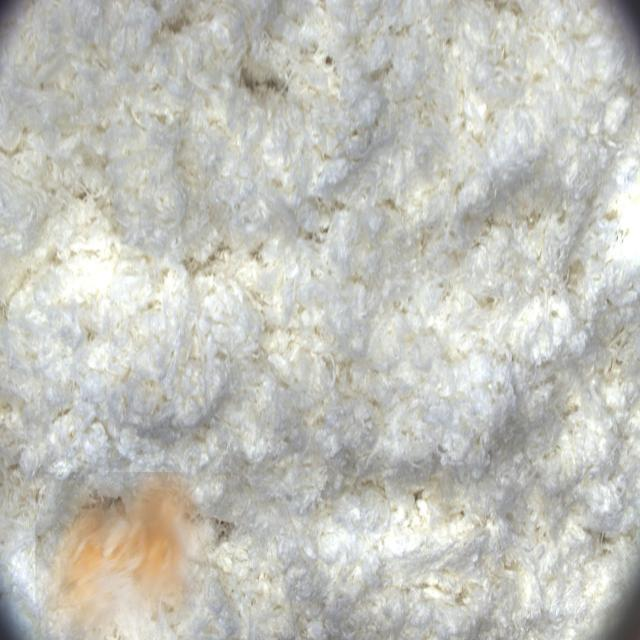dust: (35, 472, 210, 640)
